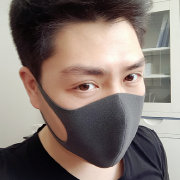face_mask: (44, 22, 145, 169)
